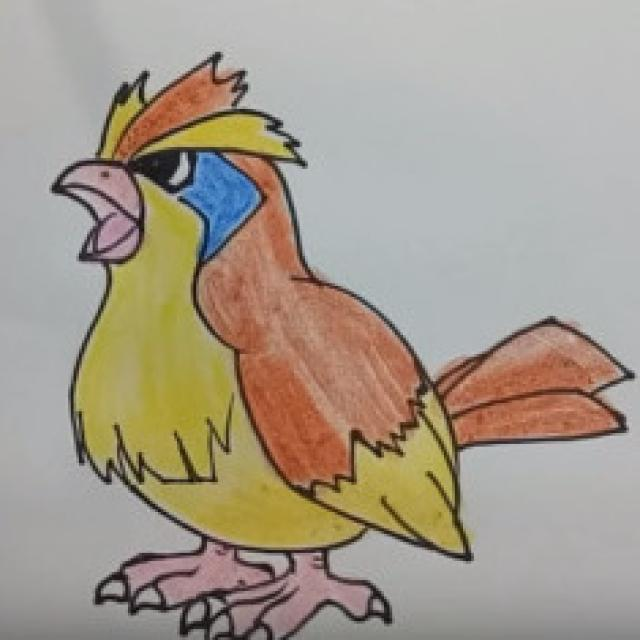Pidgey: (64, 60, 465, 640)
